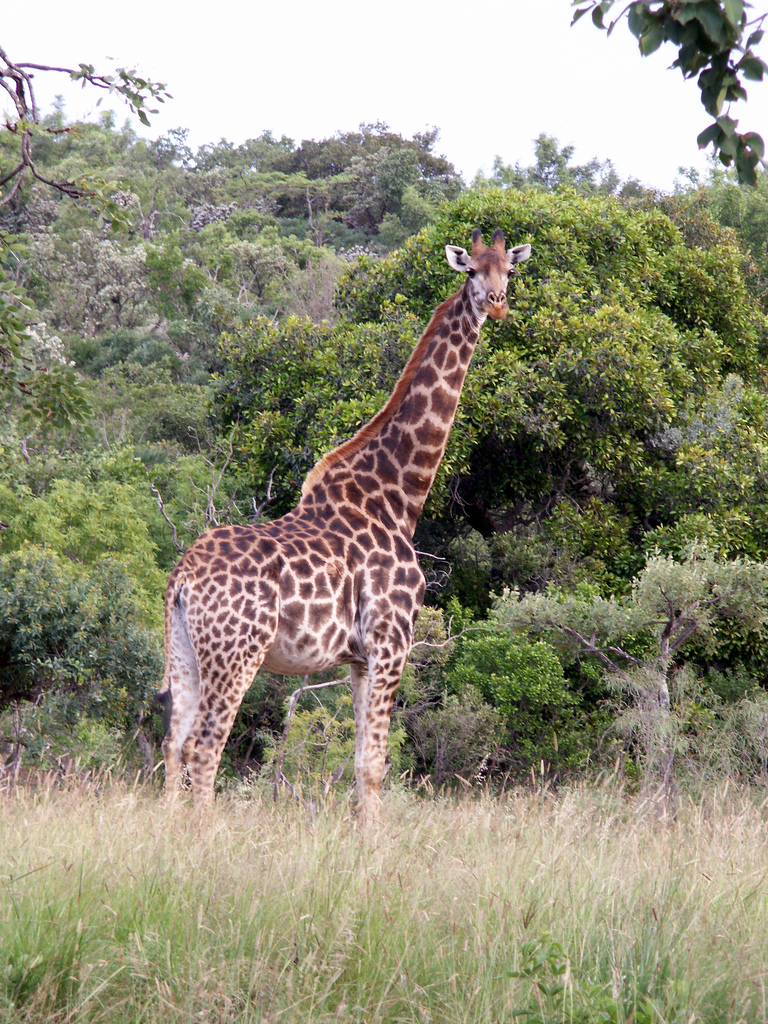giraffe: (137, 209, 537, 819)
